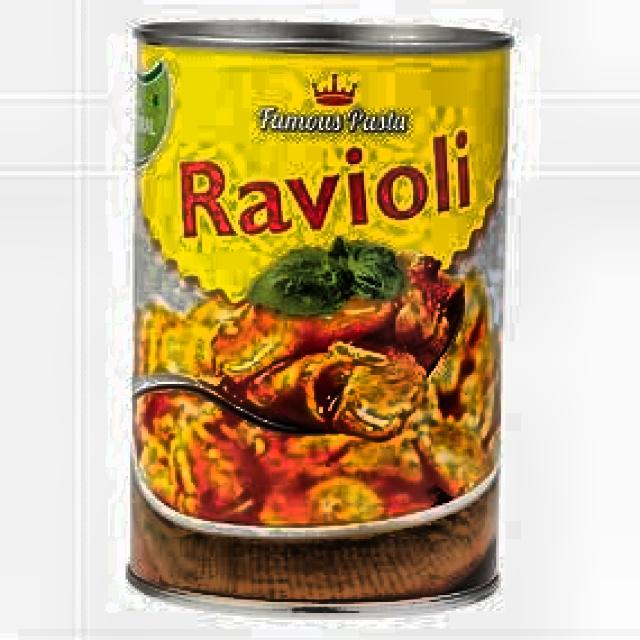Cans: (105, 0, 510, 633)
